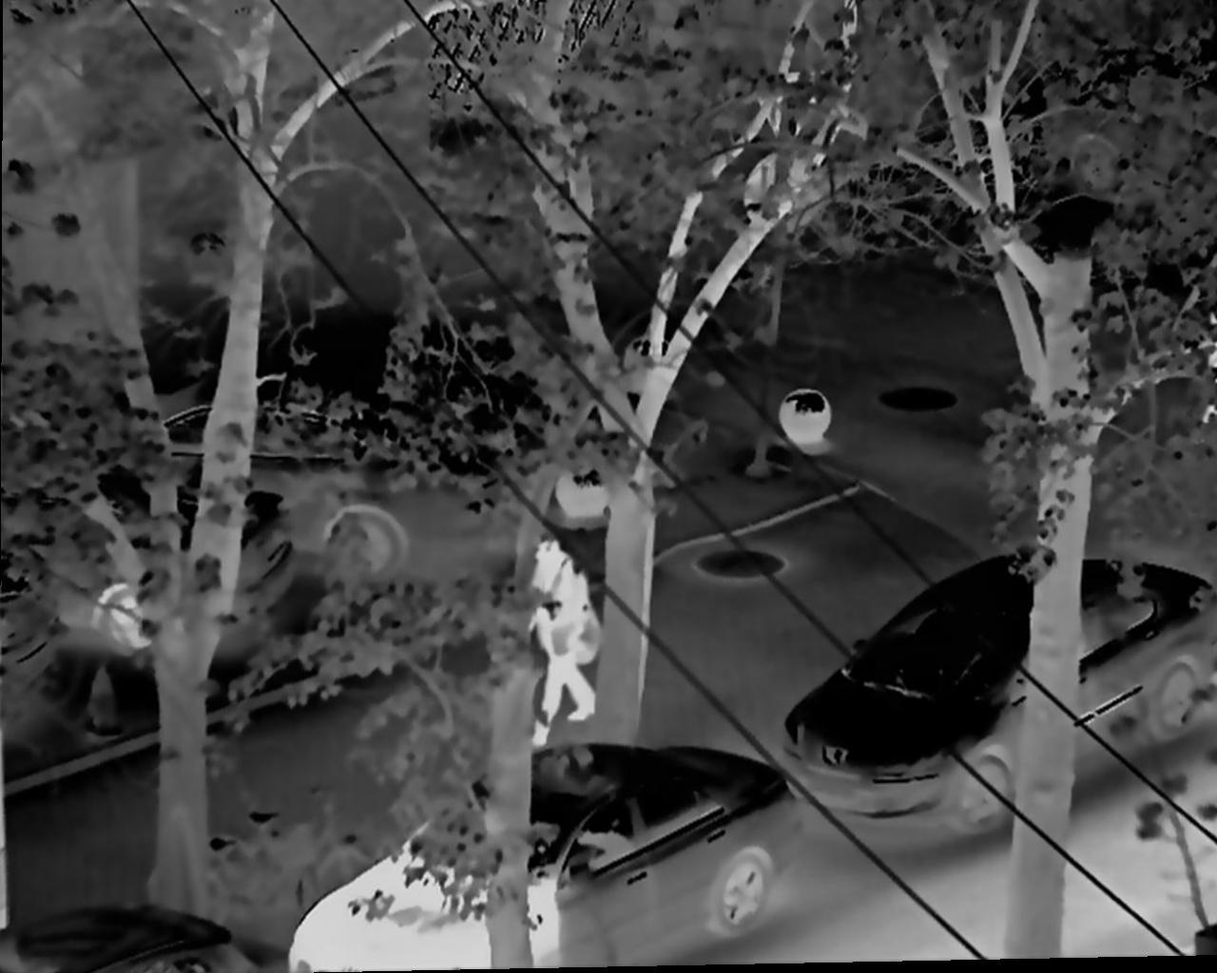person: (517, 532, 599, 747)
